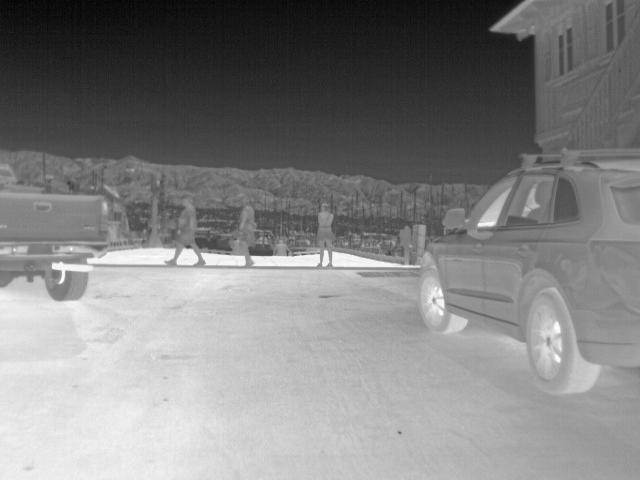car: (415, 146, 636, 398), (0, 164, 118, 302)
person: (163, 195, 208, 266), (316, 201, 337, 267), (235, 199, 256, 265), (267, 237, 293, 258)
